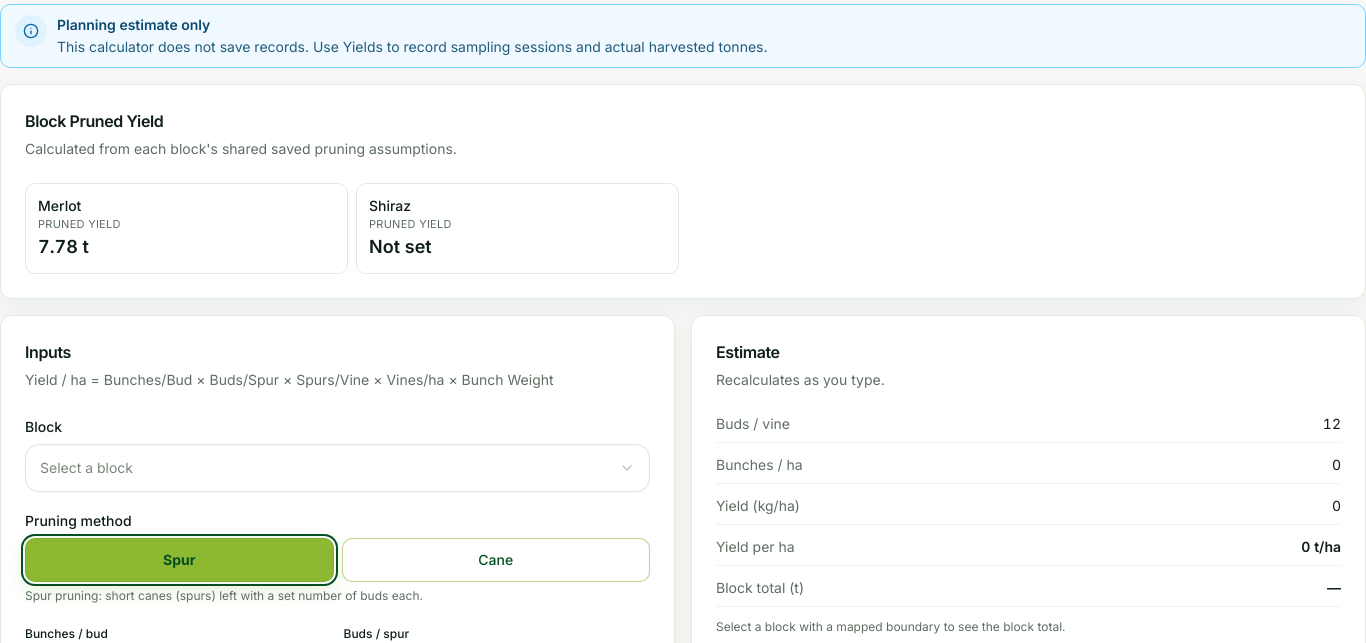
Pruning Yield Calculator page › loads saved values for a block and does not leak them into an unsaved block
Click the button "Merlot Pruned Yield 7.78 t" at (60, 206), box [25,183,348,274]
(page scrolled)
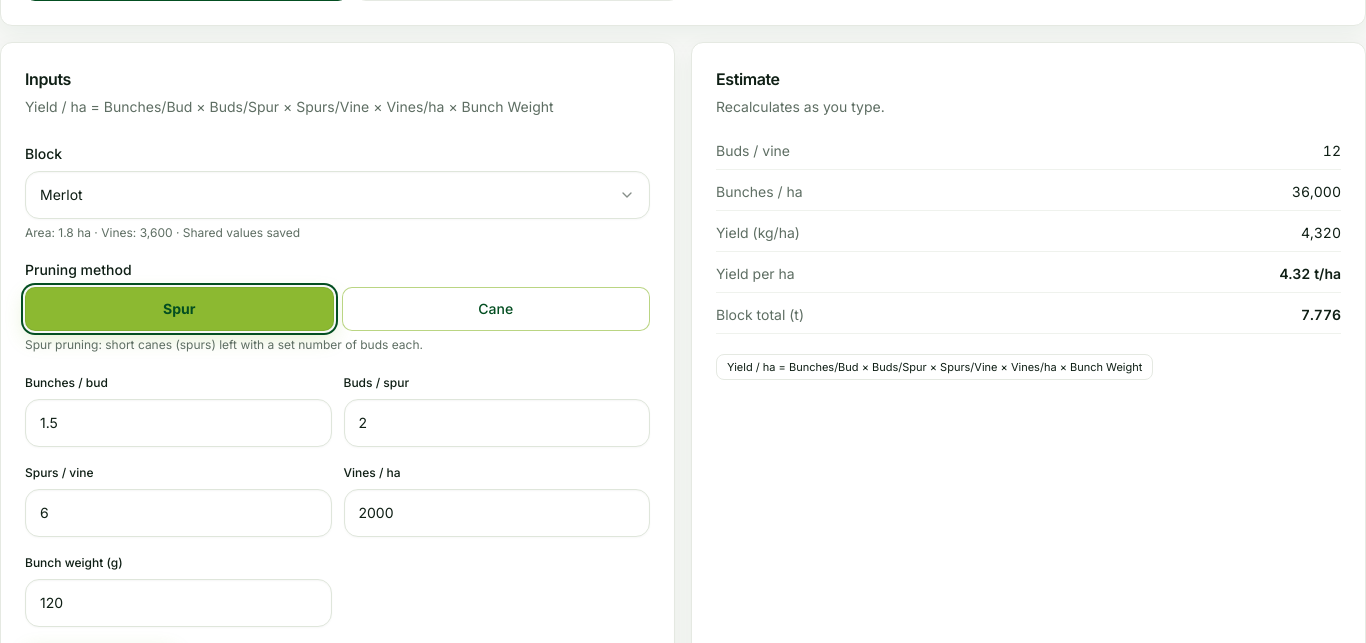
Expected: the field labelled "Vines / ha" holds "2000"
# Edit block A without saving, then switch to unsaved block B.
Replace the text in the field labelled "Vines / ha" with "1234" at (497, 512), box [344,488,650,536]
(page scrolled)
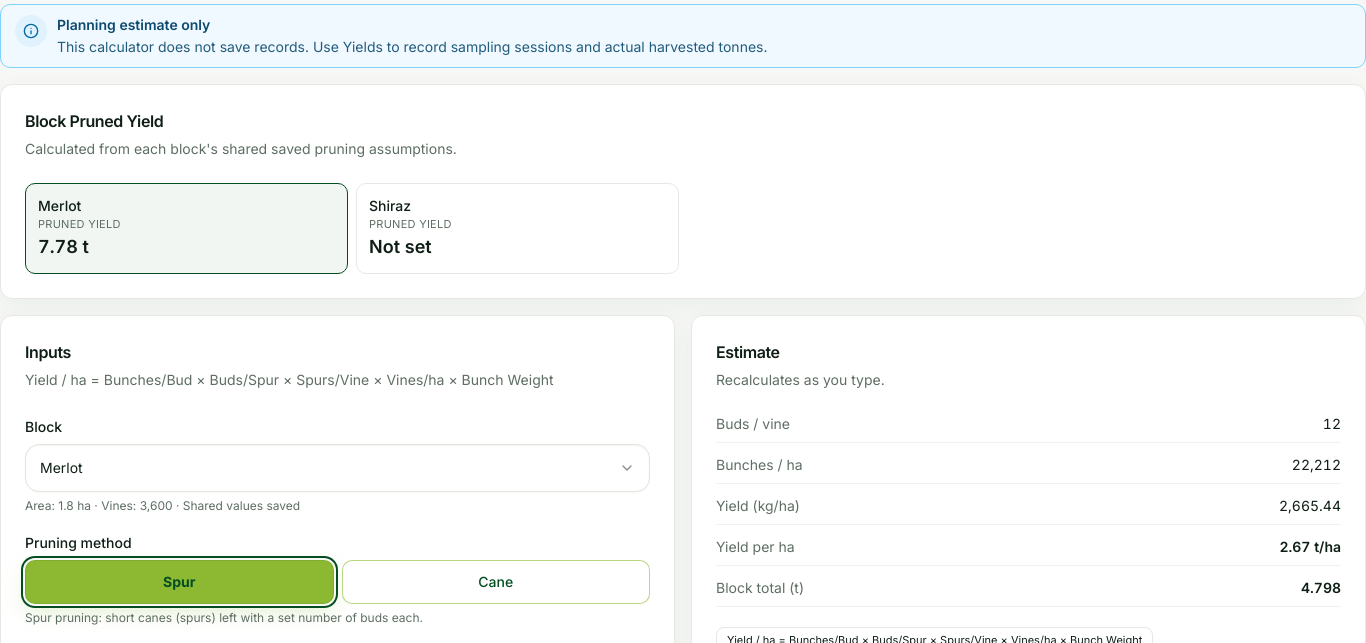
Click the button "Shiraz Pruned Yield Not set" at (390, 206), box [356,183,679,274]
(page scrolled)
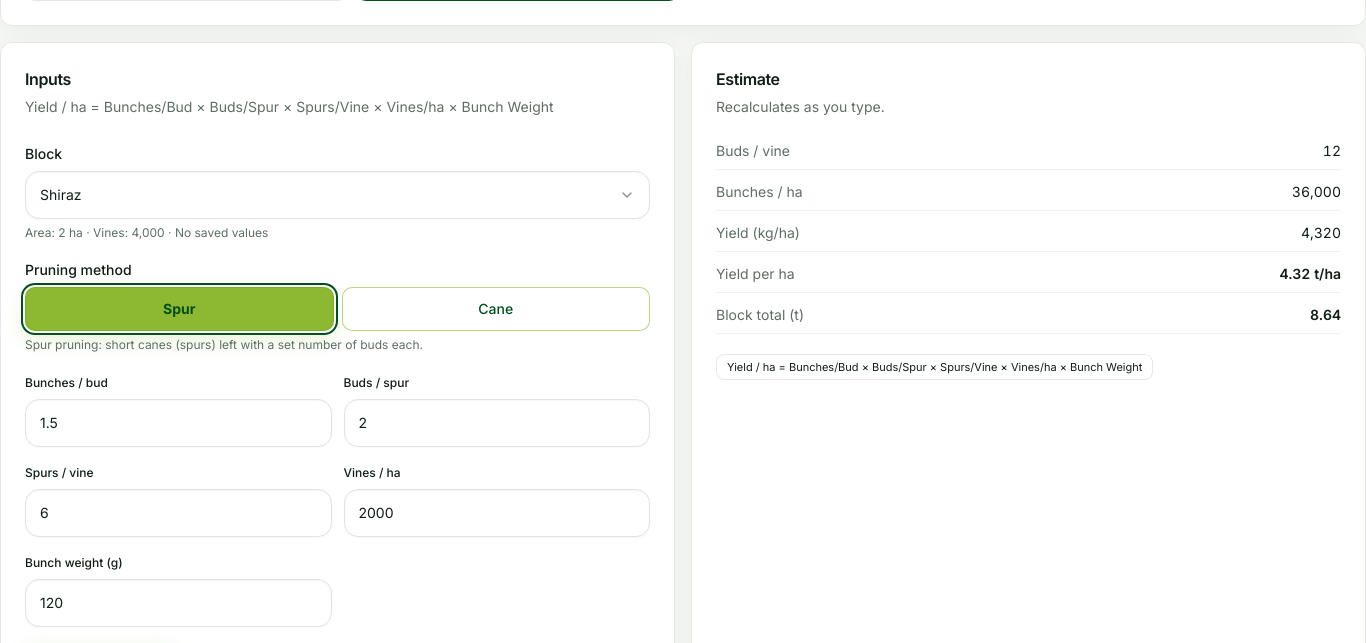
Expected: the field labelled "Bunch weight (g)" holds "120", [25,578,332,626]
Expected: the field labelled "Vines / ha" holds "2000", [344,488,650,536]
